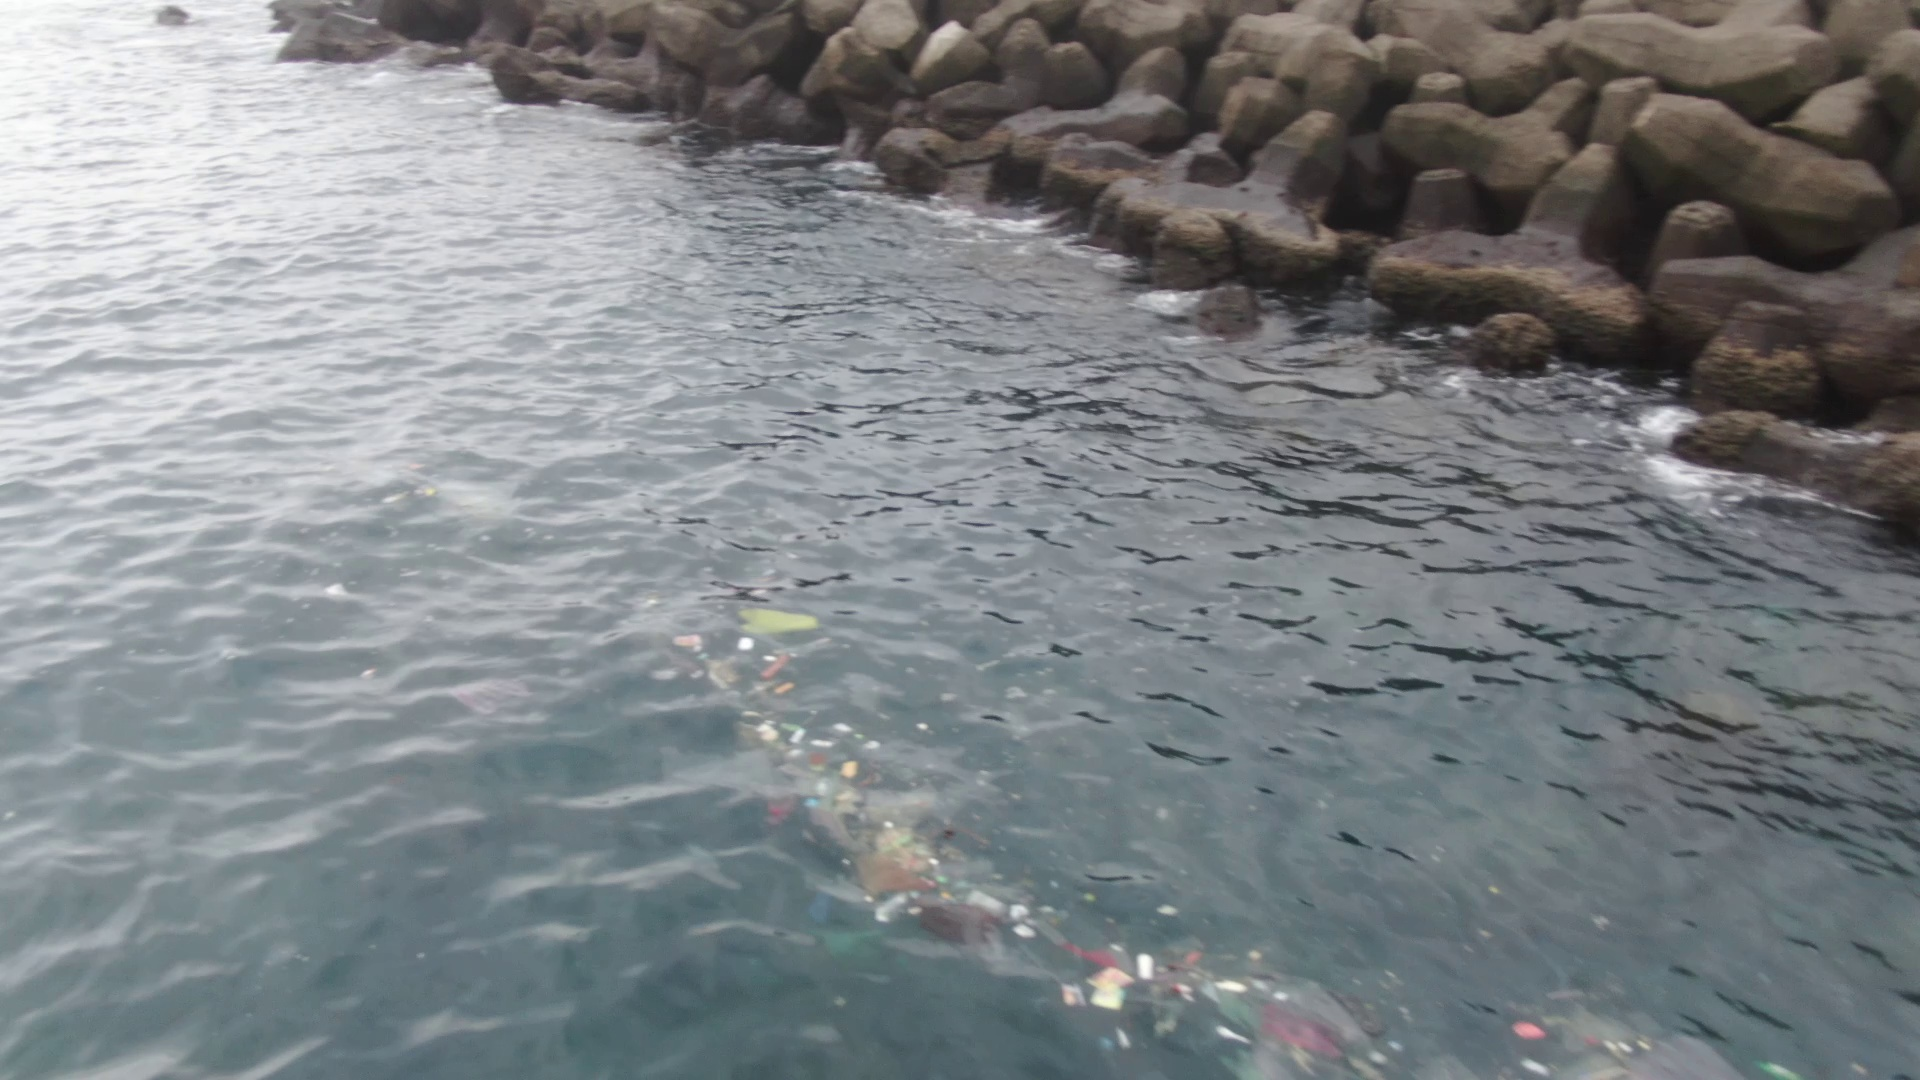garbage: (1143, 940, 1418, 1080), (1493, 971, 1809, 1080), (812, 724, 955, 928), (957, 870, 1135, 1022), (695, 597, 823, 684), (738, 695, 812, 831)
